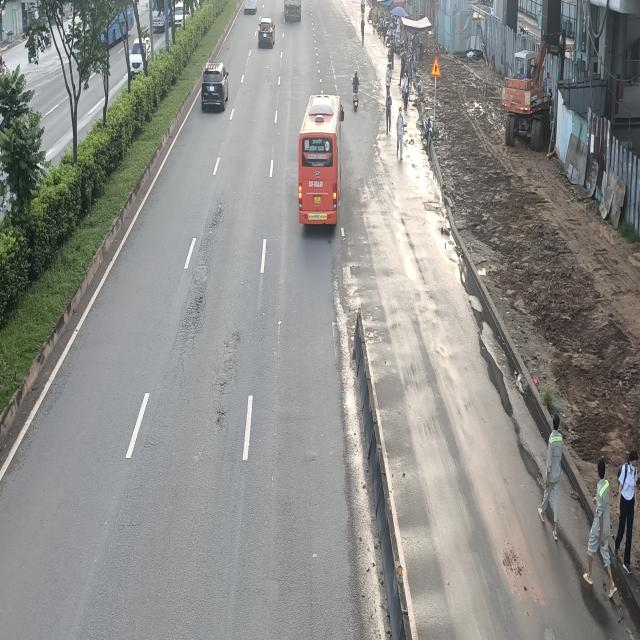car: (200, 61, 231, 111), (258, 17, 277, 48)
coach: (296, 94, 343, 229)
